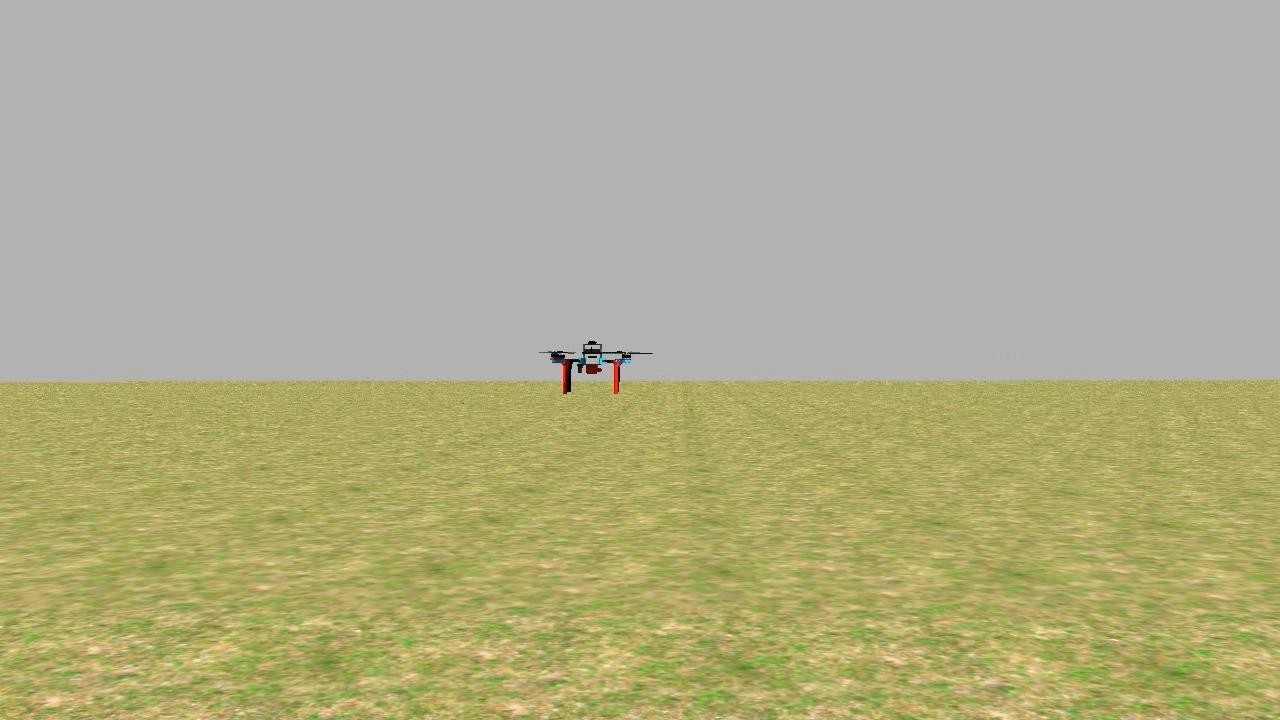UAV: (522, 334, 644, 395)
